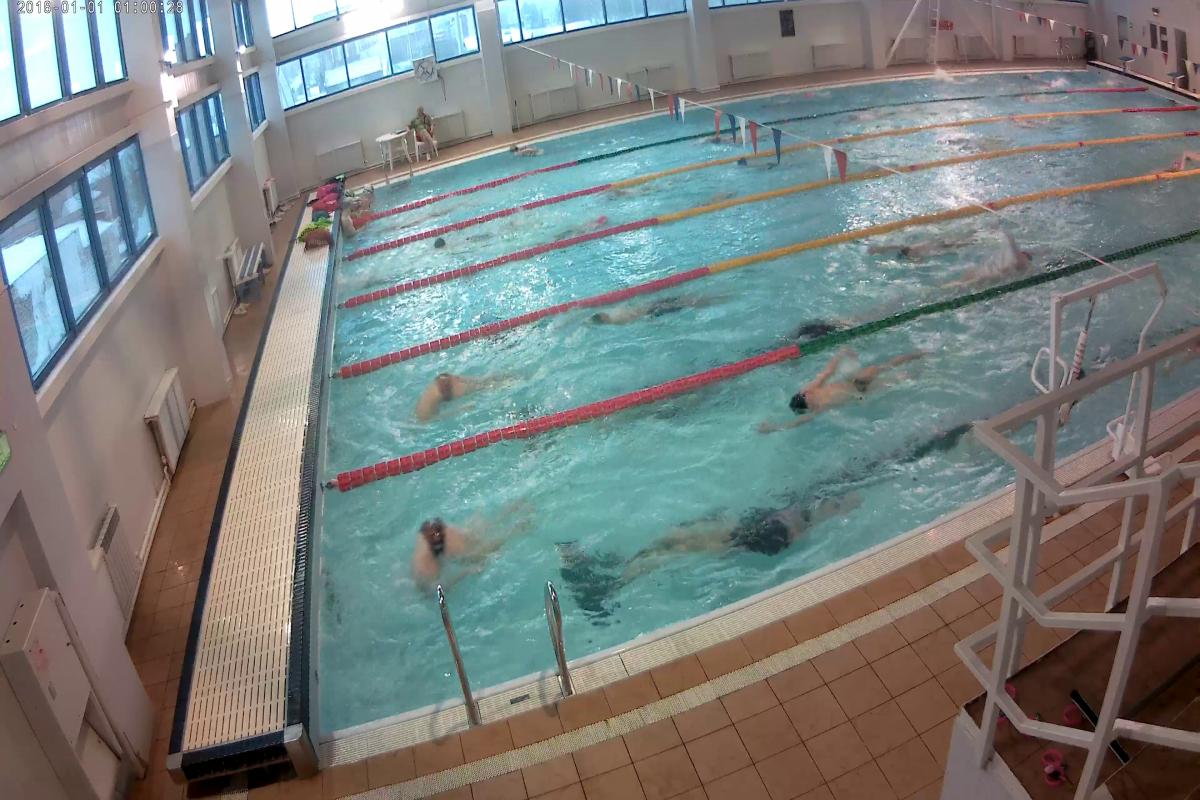swimmer: (748, 352, 921, 436), (668, 498, 848, 568), (407, 502, 516, 595), (402, 365, 498, 432), (583, 293, 720, 338), (964, 245, 1047, 289), (880, 231, 969, 259)
